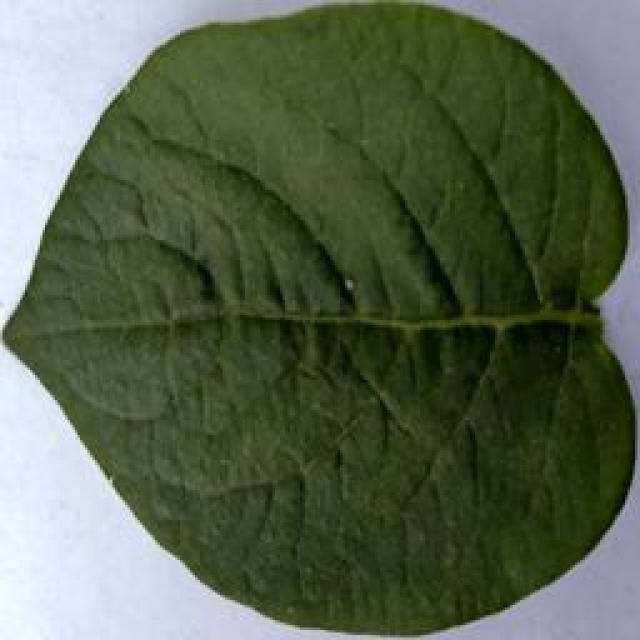Potato_Healthy: (4, 4, 624, 629)
